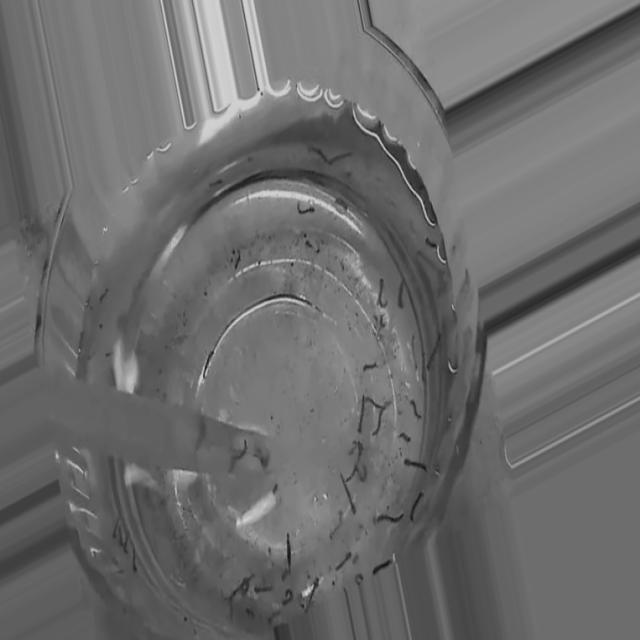larvas: (348, 442, 365, 482), (425, 331, 443, 367), (341, 476, 357, 514), (304, 576, 320, 608), (410, 490, 424, 525), (201, 348, 214, 383), (300, 231, 319, 251), (234, 441, 246, 468), (372, 414, 388, 434), (336, 550, 350, 572), (409, 397, 422, 420), (366, 394, 384, 410), (404, 458, 430, 469), (378, 280, 388, 308), (280, 588, 296, 605), (286, 532, 293, 570), (240, 574, 252, 596), (230, 250, 244, 268), (358, 394, 365, 429), (397, 280, 406, 306), (376, 514, 402, 523), (374, 560, 392, 573), (227, 588, 236, 613), (131, 543, 138, 575), (297, 202, 314, 215), (267, 608, 280, 624), (254, 583, 271, 595), (99, 284, 109, 304), (364, 358, 378, 372), (412, 338, 418, 370), (397, 432, 411, 445), (208, 178, 225, 187), (112, 519, 120, 538), (124, 535, 130, 556), (118, 528, 124, 548)
